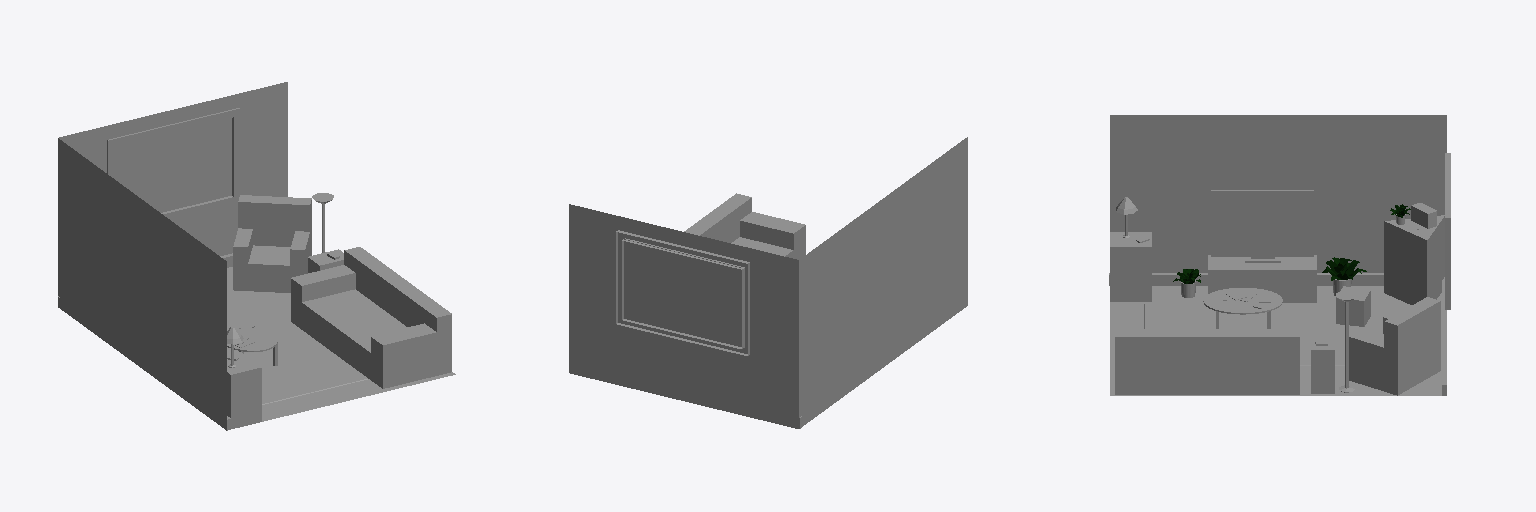
File: livingroom.obj
3 views of the same model, side by side, from view 1: azimuth 30°, elevation 25°; view 2: azimuth 150°, elevation 25°; view 3: azimuth 270°, elevation 25° (orthographic).
Visible parts, largest first — view 1: Couch_Cube.014; view 2: Couch_Cube.014; view 3: Couch_Cube.014.
Boxes of the visible parts, <box> form: Couch_Cube.014: <box>58,82,455,430</box>; Couch_Cube.014: <box>569,137,967,428</box>; Couch_Cube.014: <box>1109,115,1450,395</box>.
Size of the model in its own units: 2.2 by 1.56 by 2.84.